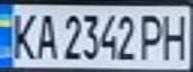2: (115, 10, 142, 61), (60, 9, 84, 61)
3: (78, 10, 100, 61)
4: (100, 10, 121, 61)
A: (30, 9, 60, 61)
H: (157, 9, 193, 61)
K: (3, 8, 42, 61)
P: (136, 10, 169, 61)
